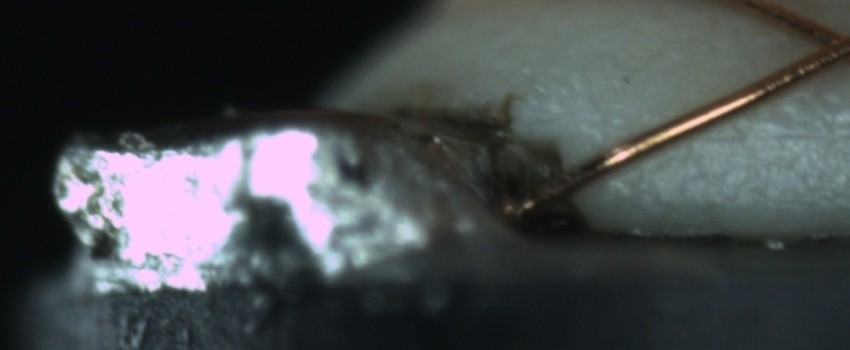CL: (798, 15, 850, 74)
DL: (697, 105, 849, 169)
